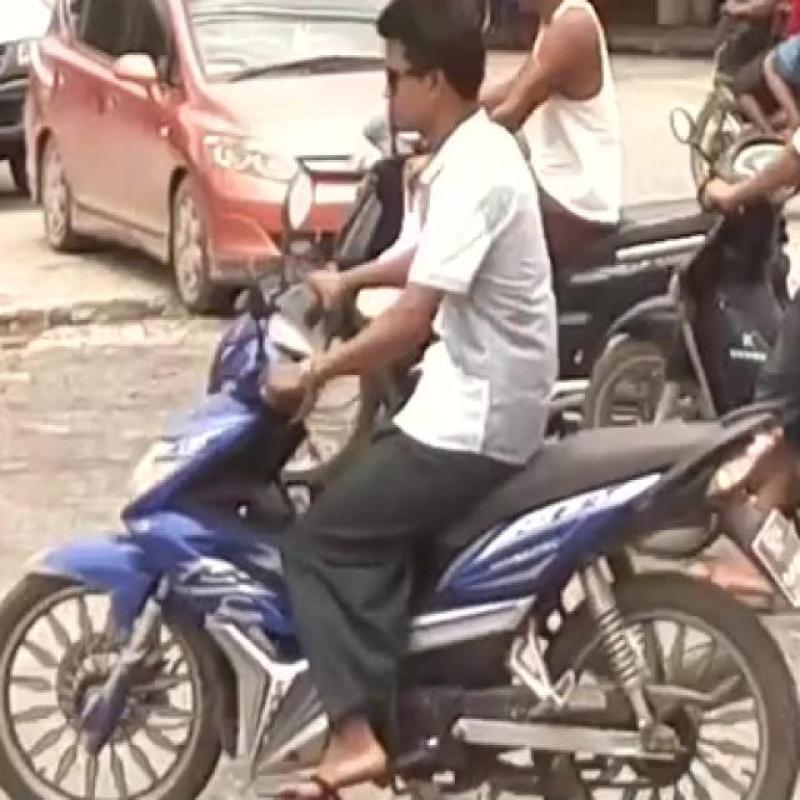nohelmet: (334, 0, 517, 161)
